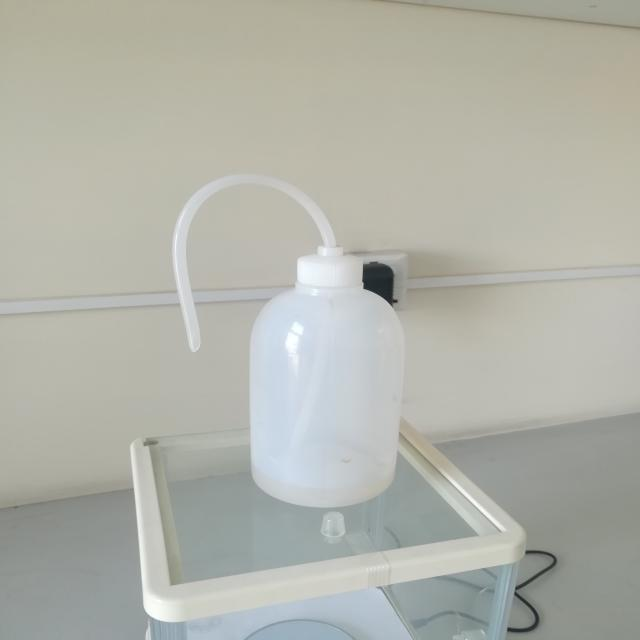Wash_Bottle: (144, 149, 446, 532)
